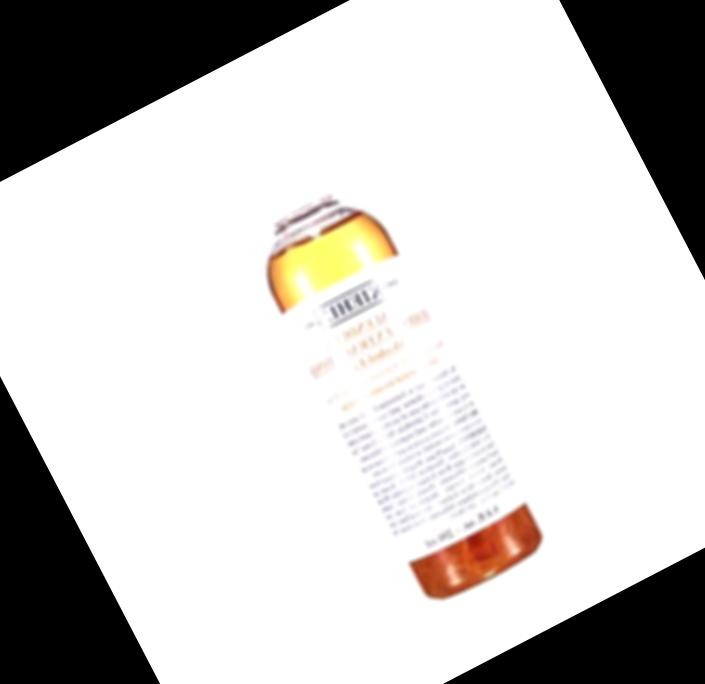cosmetic: (202, 103, 550, 609)
